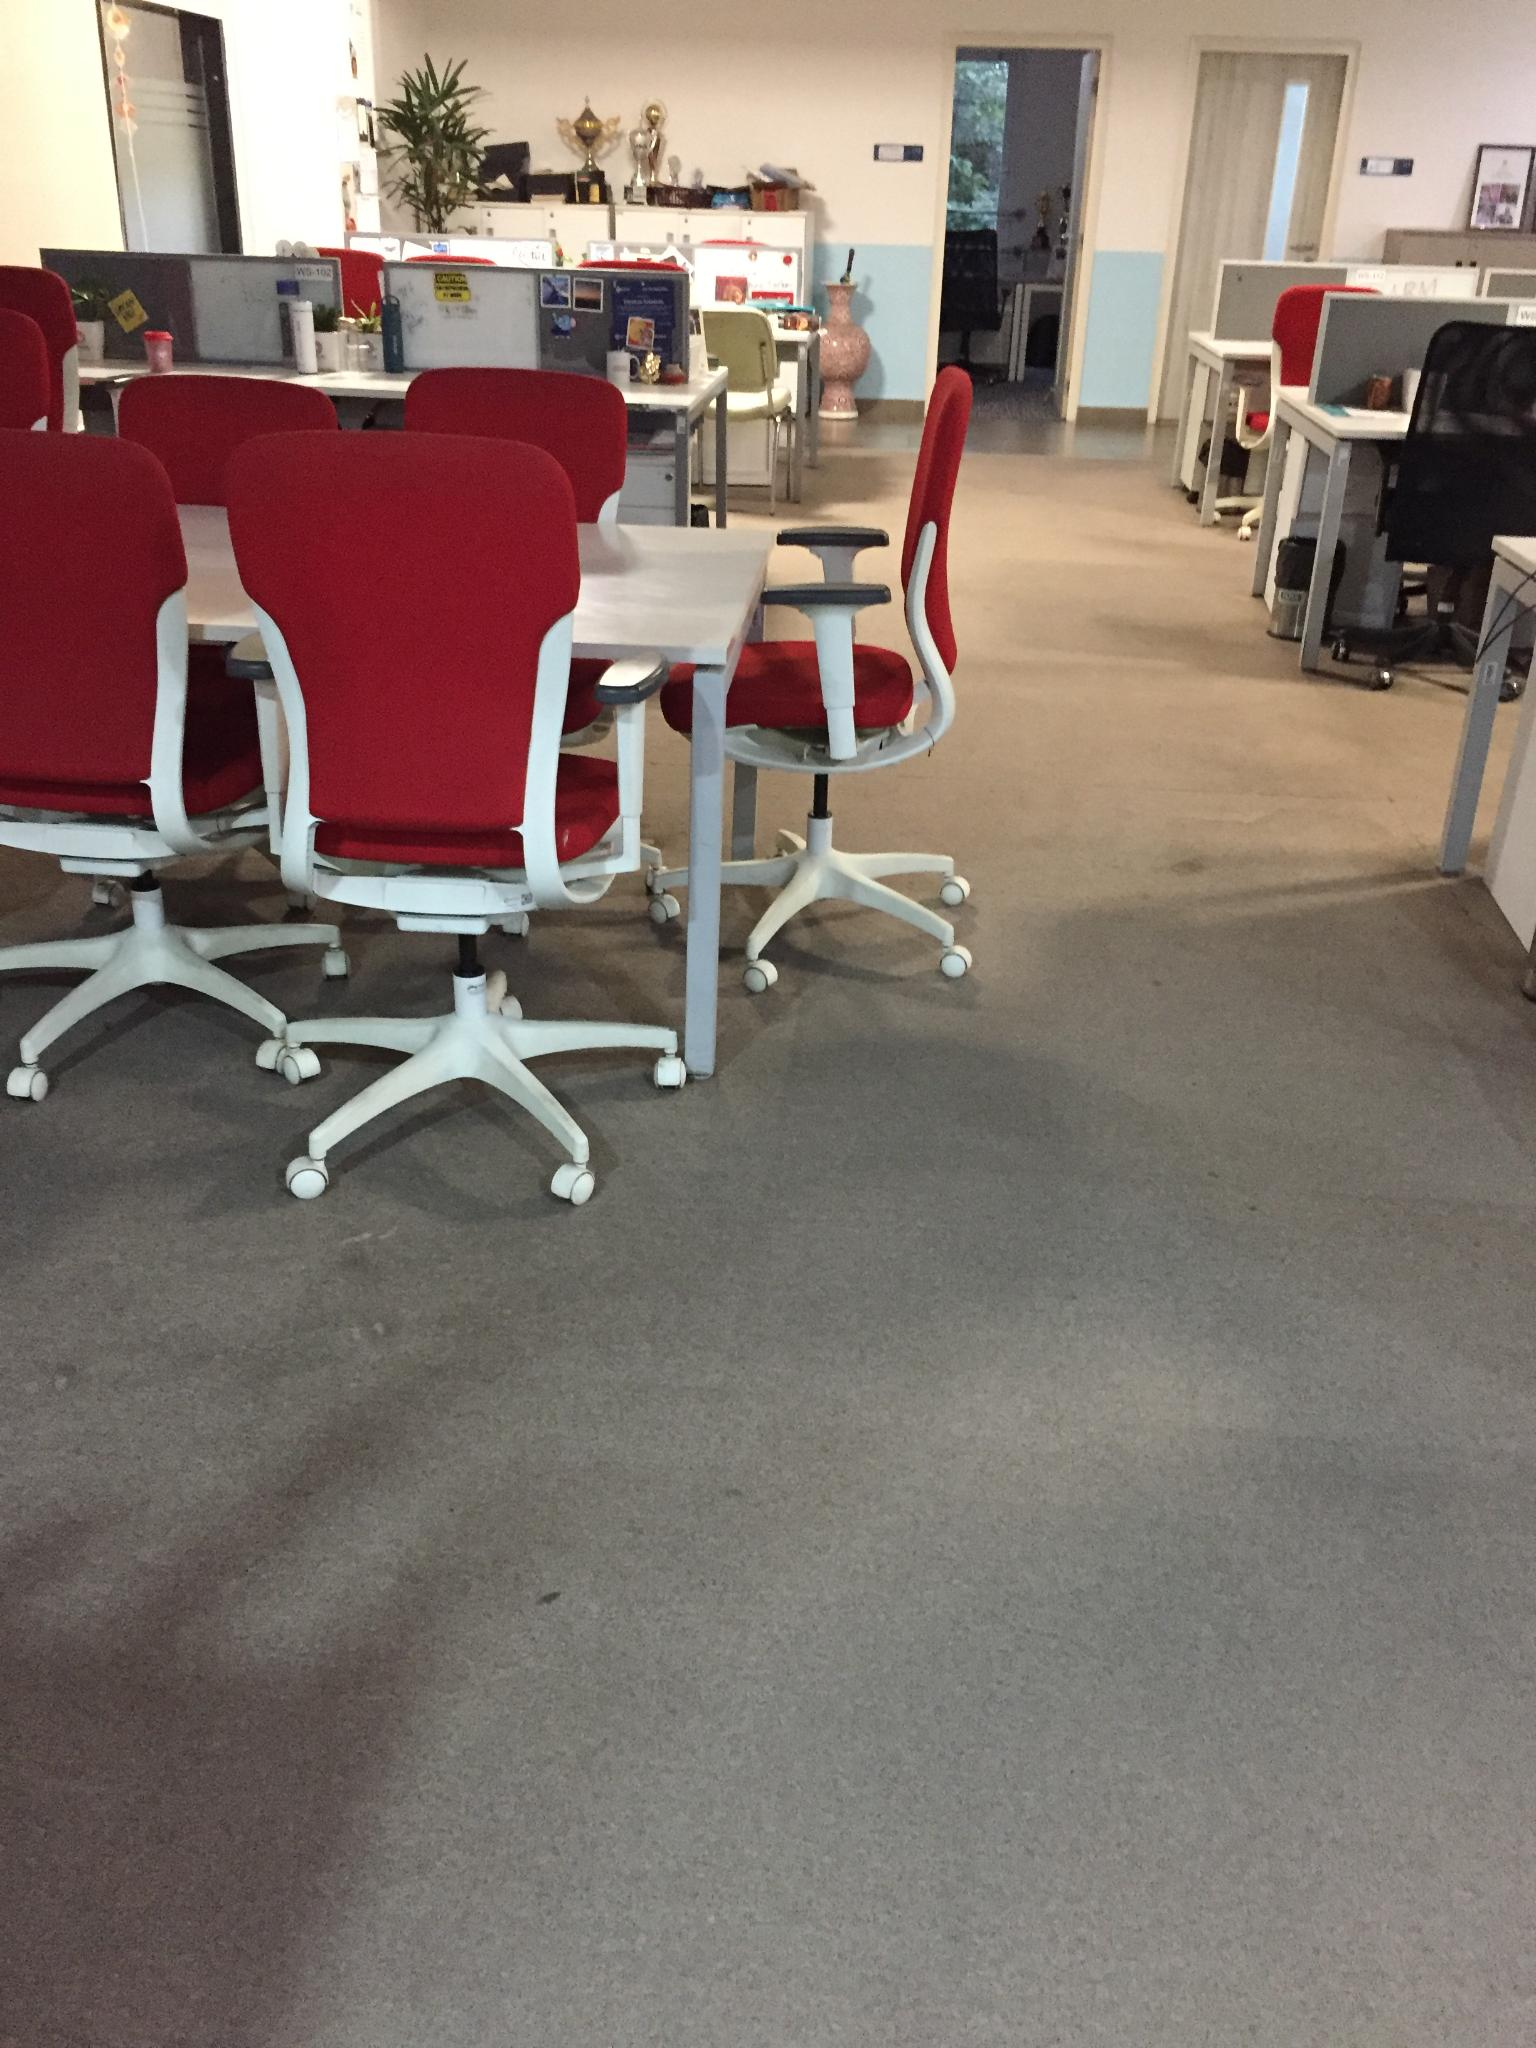chair: (221, 427, 684, 1205), (0, 427, 349, 1103), (658, 363, 975, 992), (1329, 319, 1534, 697), (1207, 284, 1381, 540), (389, 381, 647, 527), (116, 364, 345, 526), (691, 306, 797, 514), (0, 242, 97, 455), (305, 242, 395, 352)
